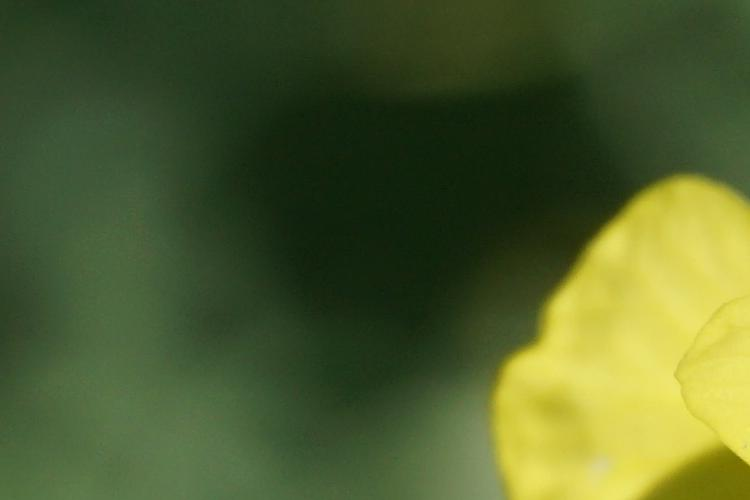yellow: (494, 174, 750, 495)
